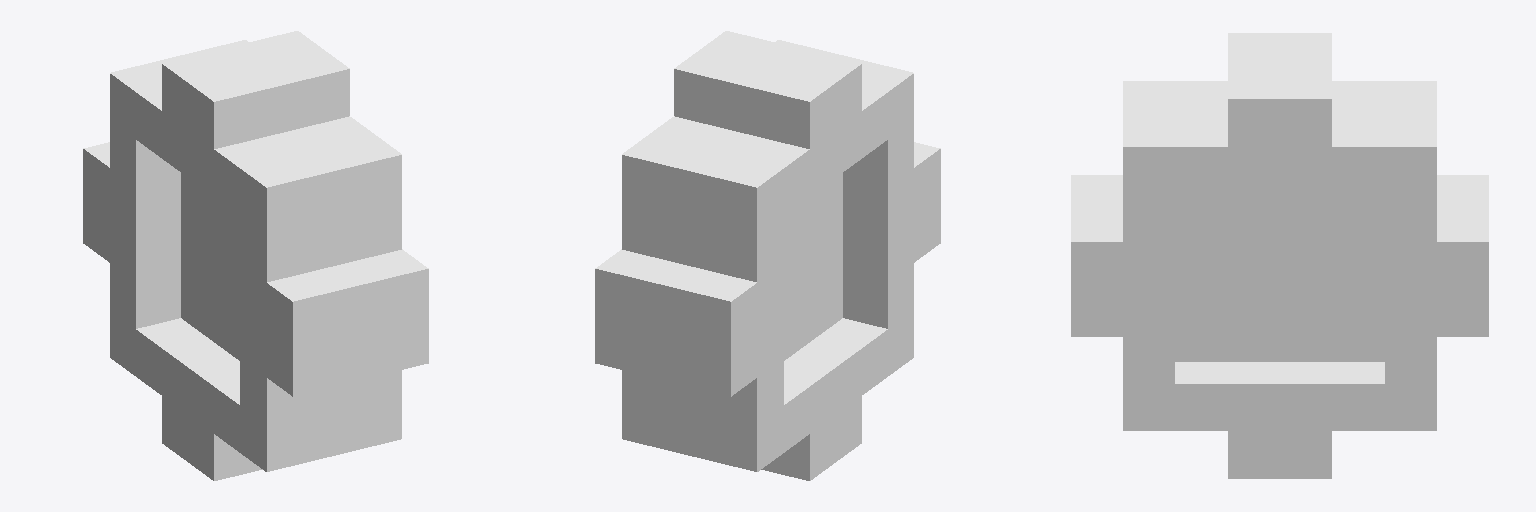
File: coin_big.obj
3 views of the same model, side by side, from view 1: azimuth 30°, elevation 25°; view 2: azimuth 150°, elevation 25°; view 3: azimuth 270°, elevation 25° (orthographic).
Parts seen in each view (by area): view 1: coin_big; view 2: coin_big; view 3: coin_big.
Boxes of the visible parts, <box> form: coin_big: <box>83,31,428,480</box>; coin_big: <box>595,31,940,480</box>; coin_big: <box>1071,33,1488,478</box>.
Bounding box in the file's own units: 1.78 × 4.74 × 4.74.